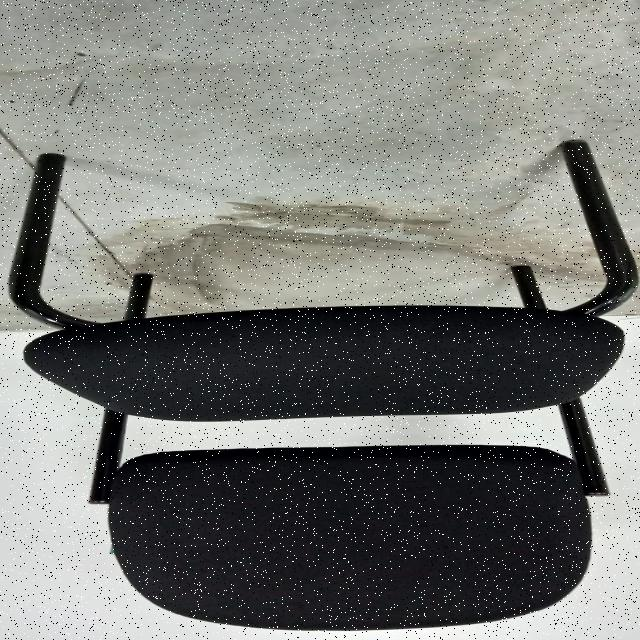bottle: (6, 143, 640, 636)
